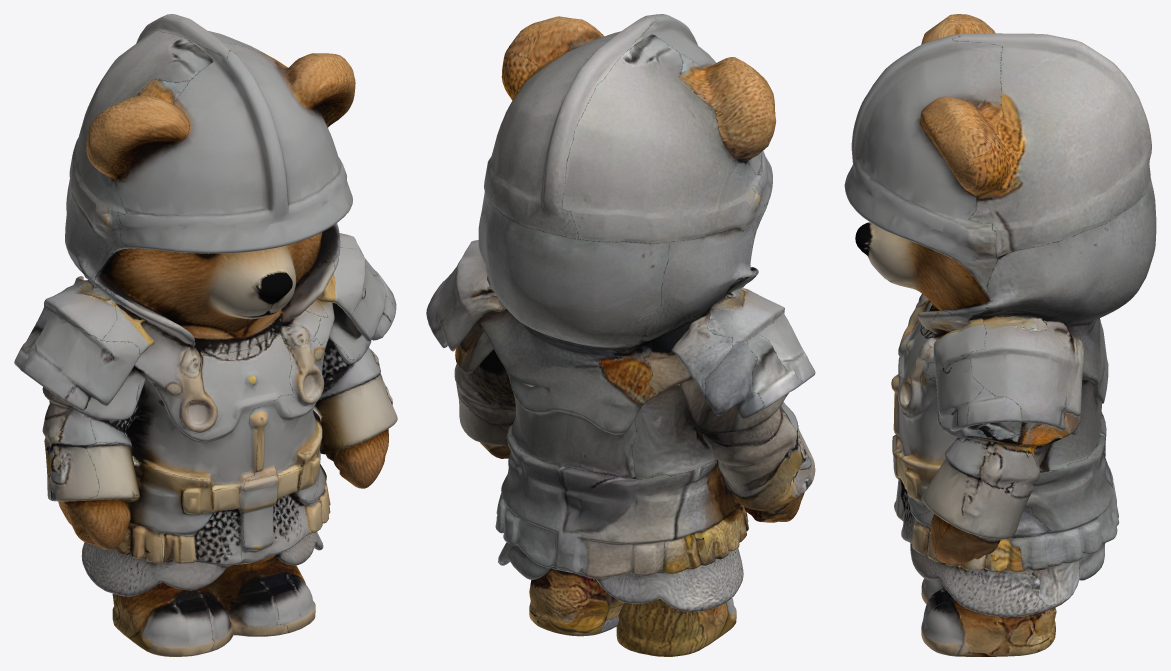
The model's file is texgen_sd_13w.glb.
3 views of the same model, side by side, from view 1: azimuth 30°, elevation 25°; view 2: azimuth 150°, elevation 25°; view 3: azimuth 270°, elevation 25° (orthographic).
Parts seen in each view (by area): view 1: texture_v128_amrb_13w_cfg2_hdr; view 2: texture_v128_amrb_13w_cfg2_hdr; view 3: texture_v128_amrb_13w_cfg2_hdr.
Boxes of the visible parts, x1,y1,x2,y2 form: texture_v128_amrb_13w_cfg2_hdr: (14,14,397,656); texture_v128_amrb_13w_cfg2_hdr: (426,14,815,656); texture_v128_amrb_13w_cfg2_hdr: (844,14,1156,656).
Bounding box in the file's own units: 1.3 × 2 × 0.9726.
Materials: 1 (1 with a texture image).
